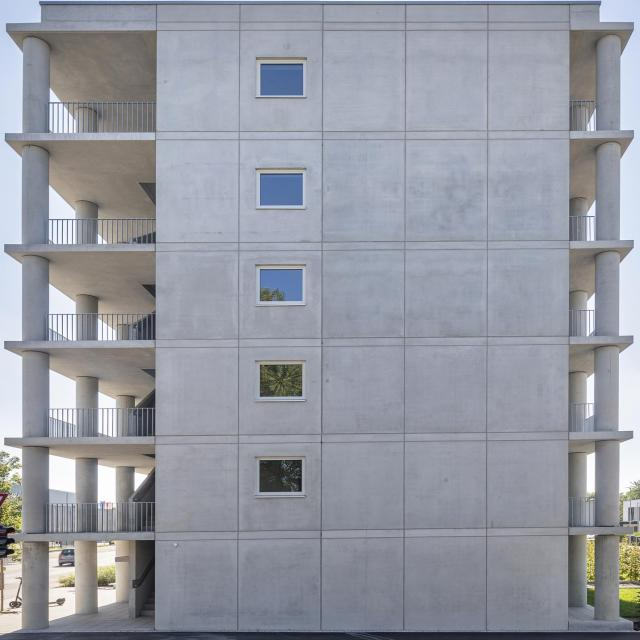Railing: (42, 100, 151, 133), (40, 407, 150, 438), (41, 502, 150, 532), (41, 216, 150, 244), (40, 313, 151, 338), (563, 308, 591, 337), (563, 100, 589, 131), (565, 496, 590, 527), (564, 215, 590, 242), (565, 402, 589, 431)
wall: (6, 2, 634, 631)
windows: (260, 265, 312, 304), (259, 460, 311, 499), (259, 170, 308, 209), (261, 62, 310, 98), (258, 363, 307, 399)
